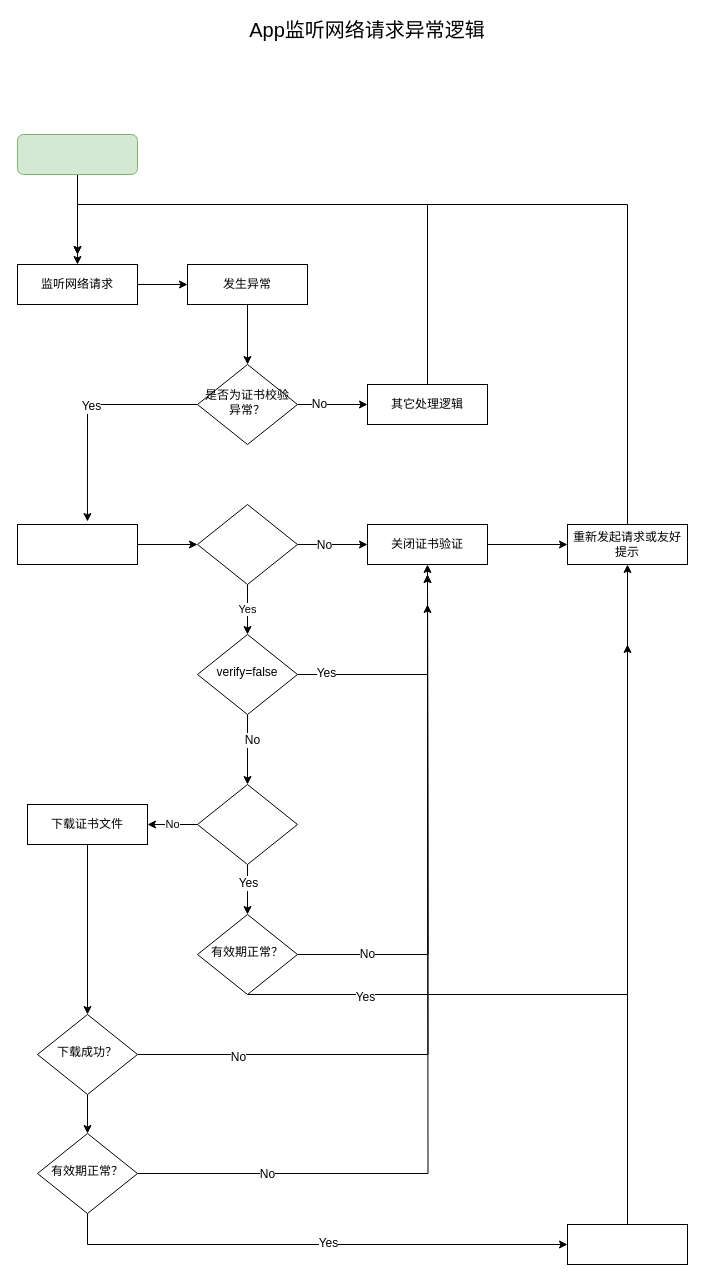
The diagram is 705 pixels wide and 1282 high, and some of its shapes have lost their labels. Here are the shapes that lost their labels. From the top down, the centre of each, then its label:
At [77,154]: "App启动".
At [77,544]: "下载规则数据".
At [247,544]: "下载并解析成功？".
At [247,824]: "比对本地证书MD5一致？".
At [627,1244]: "设置新证书".
